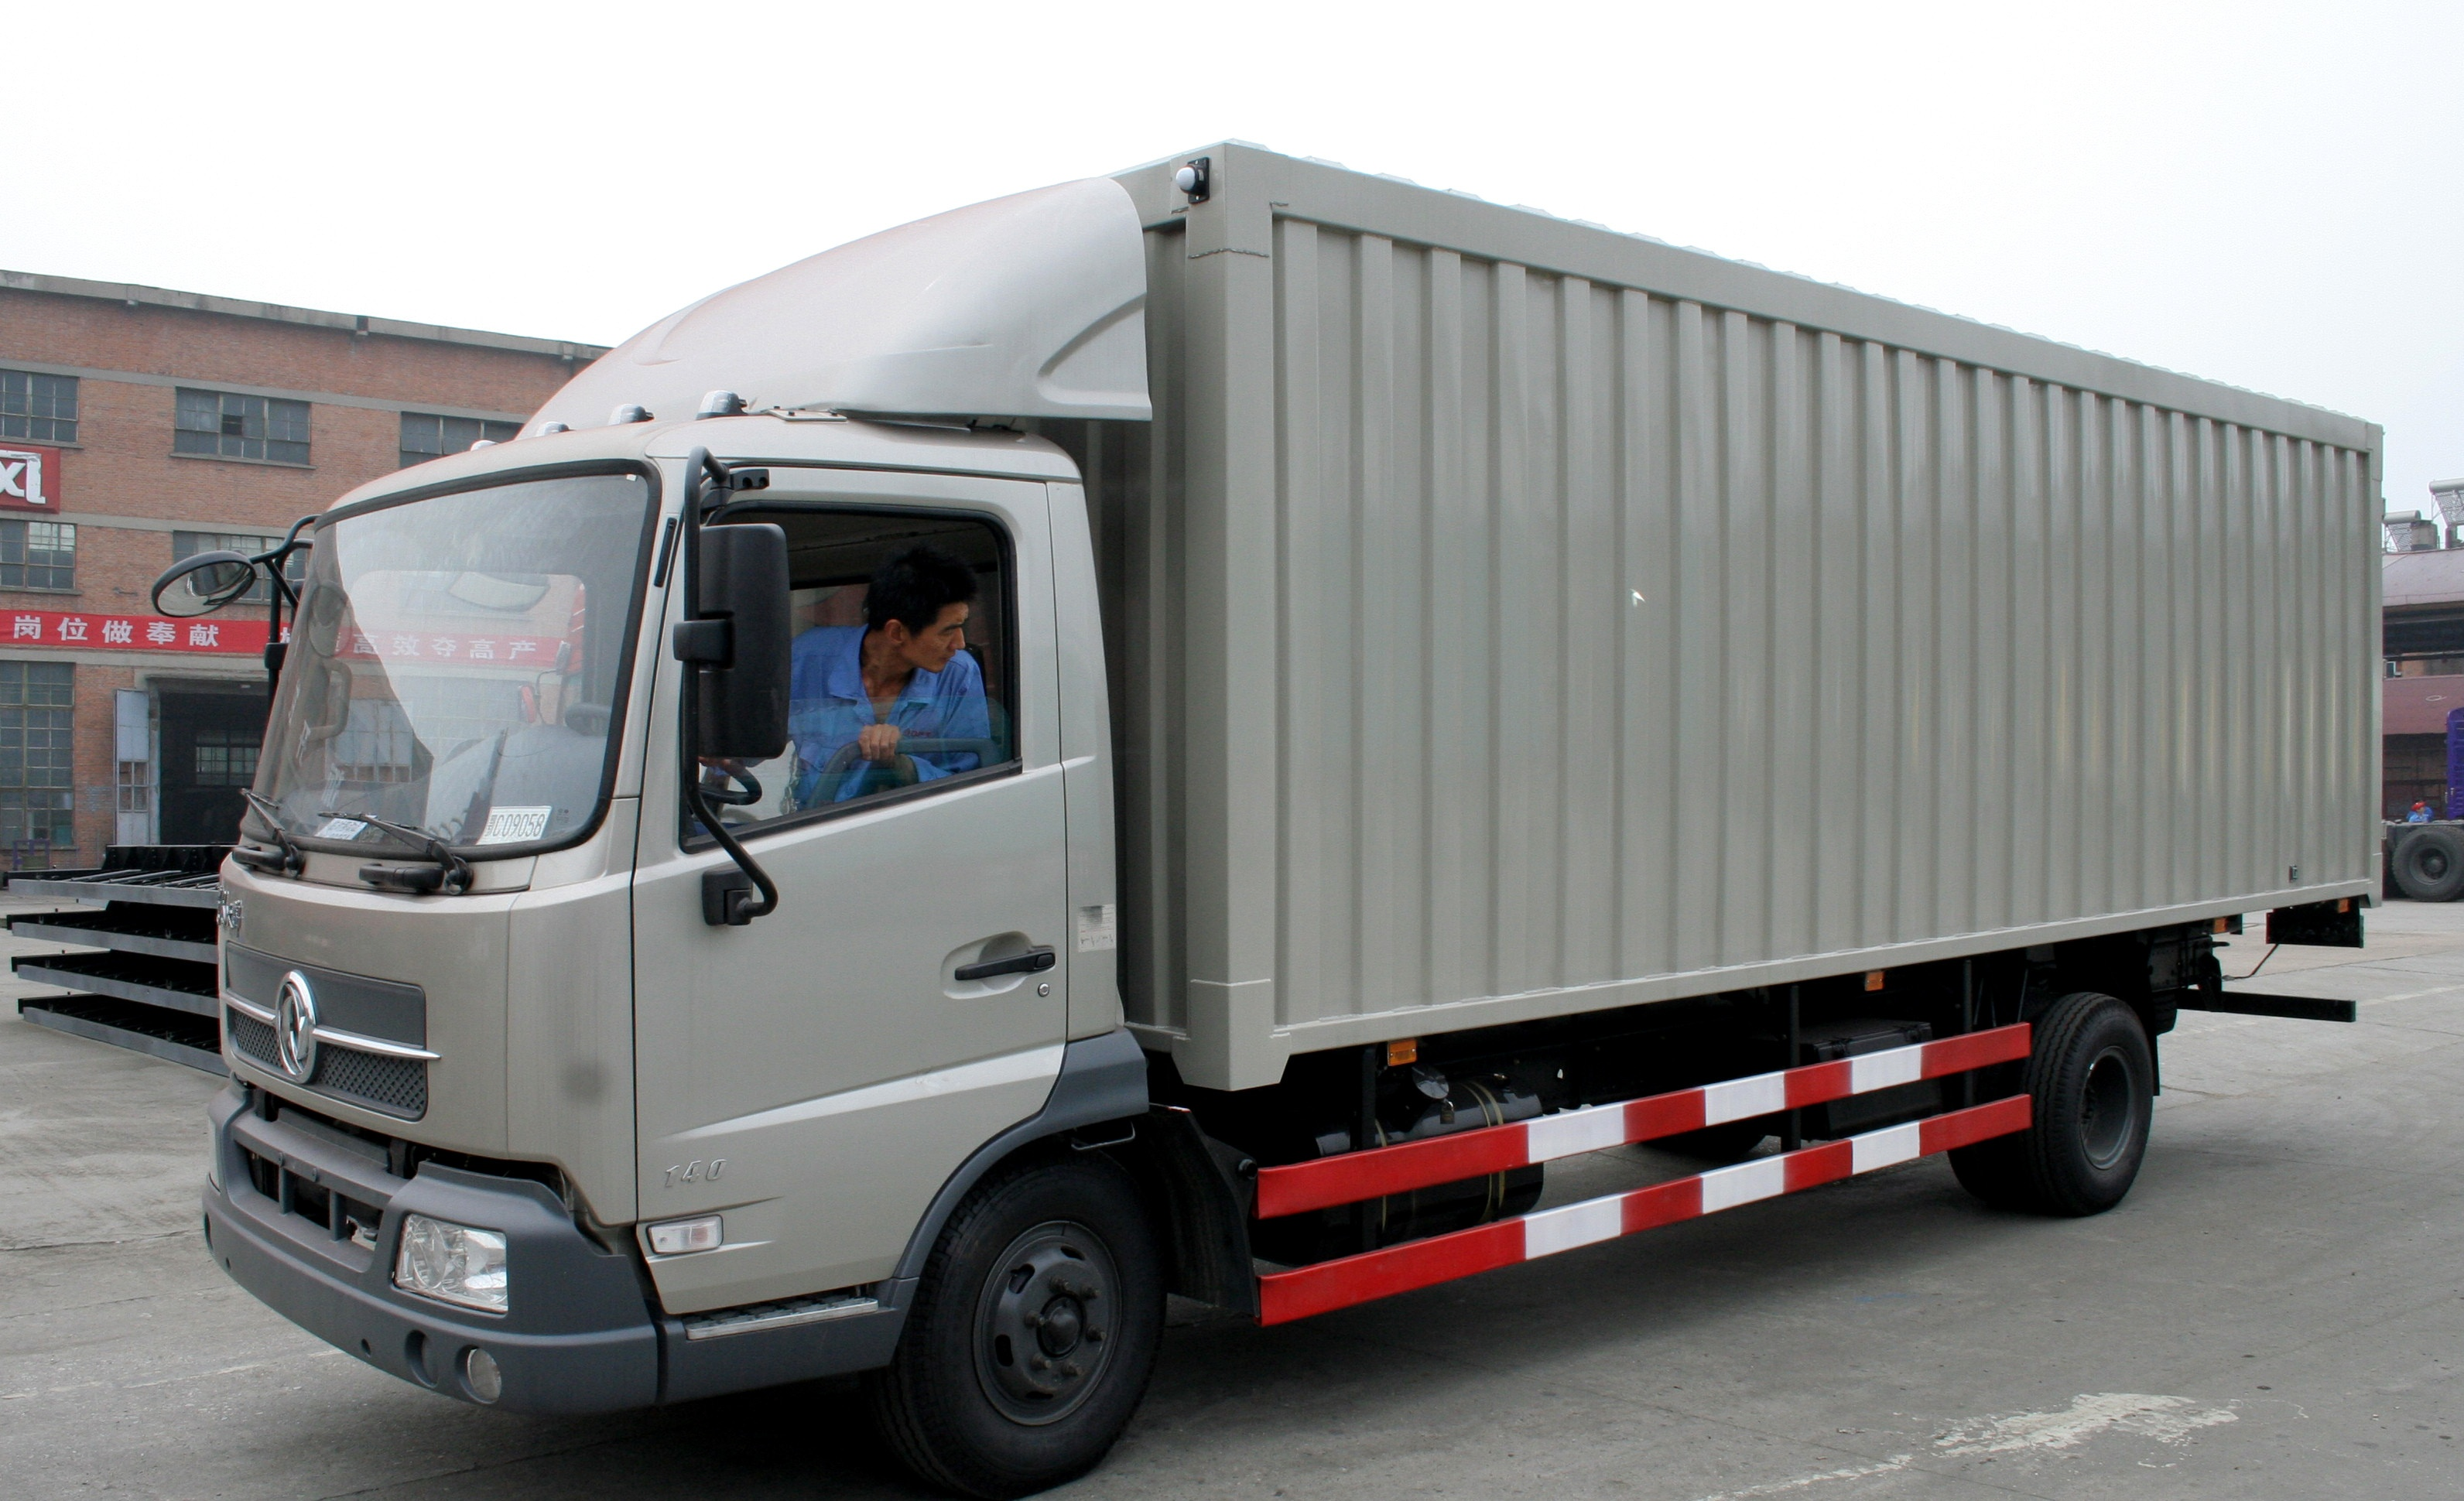truck: (211, 162, 2415, 1462)
